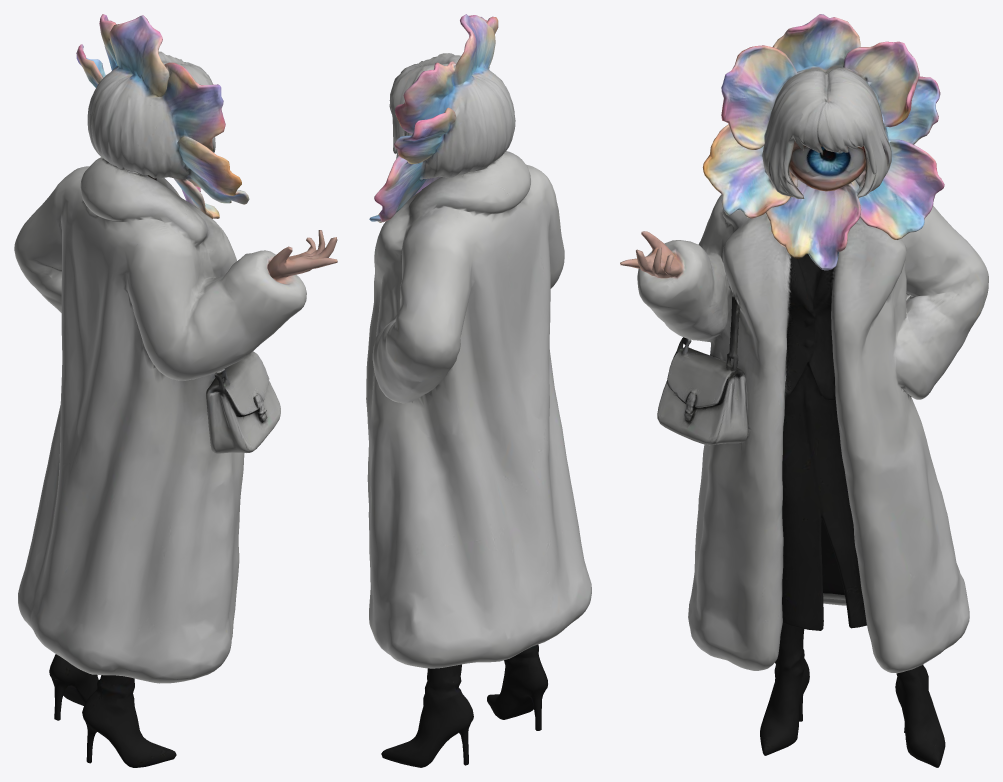
The model's file is editor.glb.
The picture shows the model from 3 angles, left to right: view 1: azimuth 30°, elevation 25°; view 2: azimuth 150°, elevation 25°; view 3: azimuth 270°, elevation 25°; orthographic projection. The views are drawn at different scales.
Parts seen in each view (by area): view 1: tripo_node_bf9fb8a6-23f6-4862-ac37-375ab1056567; view 2: tripo_node_bf9fb8a6-23f6-4862-ac37-375ab1056567; view 3: tripo_node_bf9fb8a6-23f6-4862-ac37-375ab1056567.
Part boxes in pixels (x1=…): tripo_node_bf9fb8a6-23f6-4862-ac37-375ab1056567: x1=14, y1=14, x2=337, y2=767; tripo_node_bf9fb8a6-23f6-4862-ac37-375ab1056567: x1=366, y1=14, x2=591, y2=767; tripo_node_bf9fb8a6-23f6-4862-ac37-375ab1056567: x1=620, y1=14, x2=988, y2=767.
Bounding box in the file's own units: 0.2981 × 1 × 0.4505.
1 material, 1 textured.
